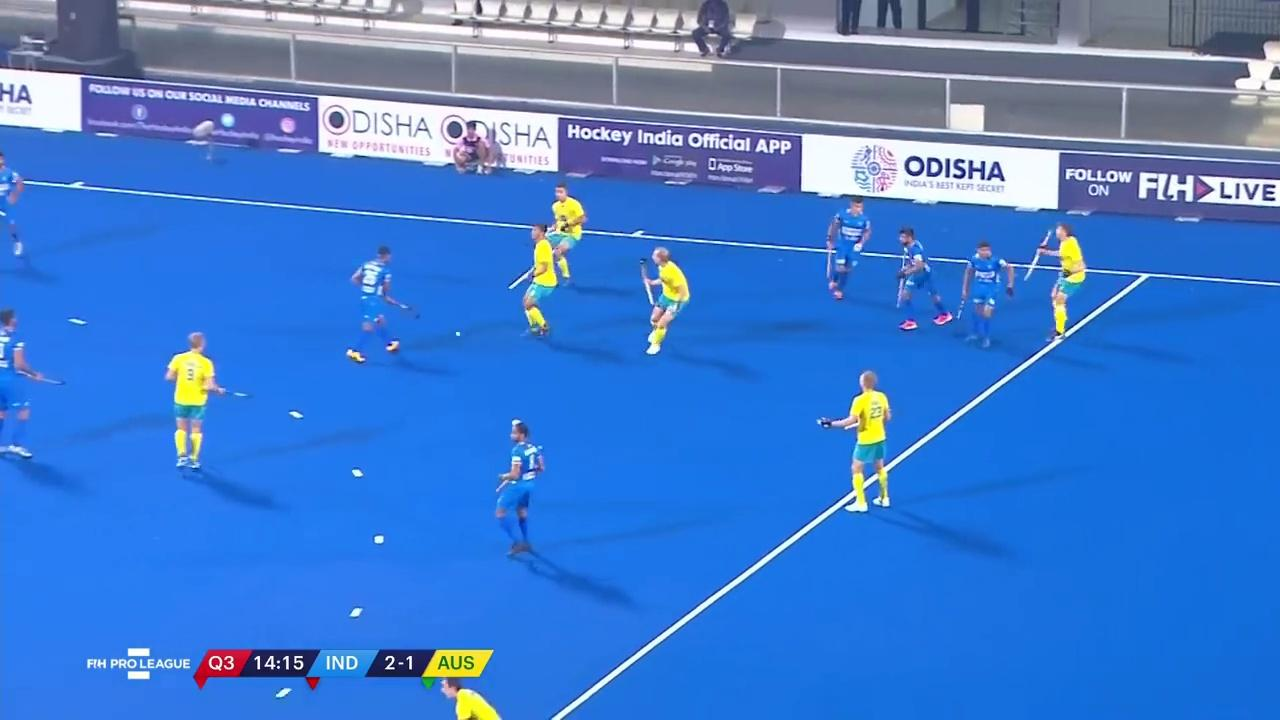ball: (452, 329, 464, 340)
